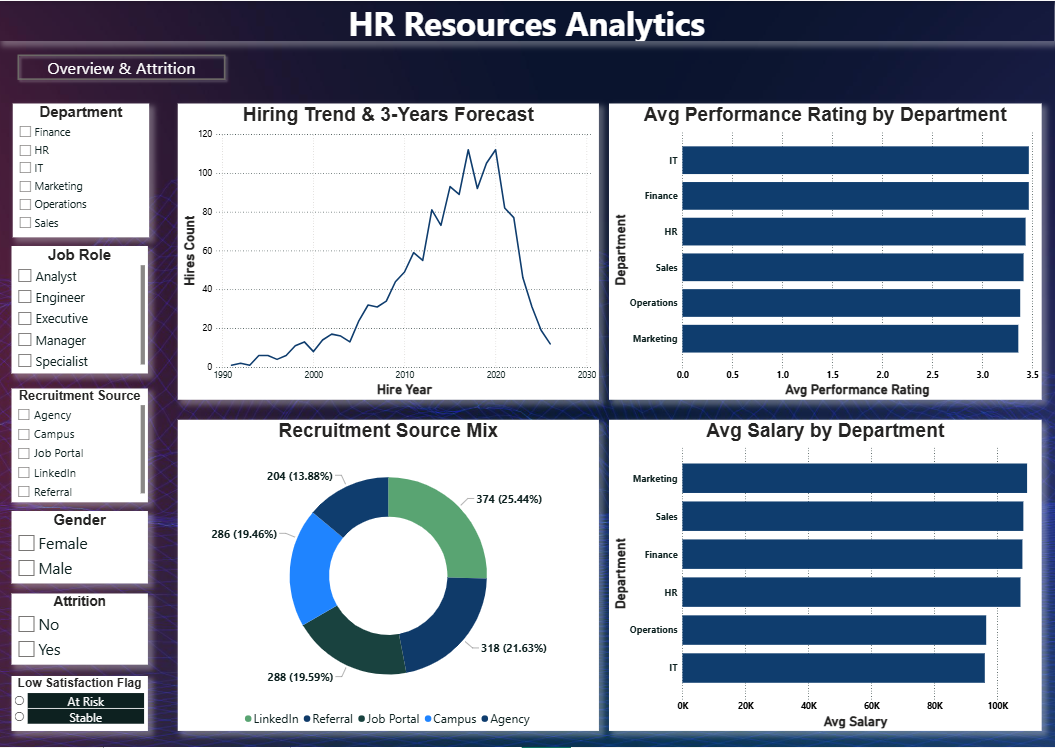

The page's visual inventory and layout, read from the dashboard file:
{"tool":"powerbi","page":{"name":"Recruitment & Forecasting","canvas":[1980,1400],"ordinal":1},"visuals":[{"type":"lineChart","title":"Hiring Trend & 3-Years Forecast","fields":{"Category":["HR Resource Analytics.Hire Year"],"Y":["HR Resource Analytics.Hires Count"]},"box":[335.5,192.4,790.6,556],"z":0},{"type":"listSlicer","fields":{"Values":["HR Resource Analytics.Low Satisfaction Flag"]},"box":[23.5,1266.8,255.7,103.2],"z":1000},{"type":"slicer","title":"Attrition","fields":{"Values":["HR Resource Analytics.Attrition"]},"box":[23.5,1111.9,255.7,133.7],"z":2000},{"type":"slicer","title":"Gender","fields":{"Values":["HR Resource Analytics.Gender"]},"box":[23.5,957.1,255.7,136.1],"z":3000},{"type":"slicer","title":"Recruitment Source","fields":{"Values":["HR Resource Analytics.RecruitmentSource"]},"box":[23.5,727.2,255.7,213.5],"z":4000},{"type":"slicer","title":"Job Role","fields":{"Values":["HR Resource Analytics.JobRole"]},"box":[23.5,459.8,255.7,239.3],"z":5000},{"type":"slicer","title":"Department","fields":{"Values":["HR Resource Analytics.Department"]},"box":[25.8,192.4,255.7,251],"z":6000},{"type":"donutChart","title":"Recruitment Source Mix","fields":{"Category":["HR Resource Analytics.RecruitmentSource"],"Y":["HR Resource Analytics.Employees by Source"]},"box":[335.5,785.9,790.6,584.1],"z":7000},{"type":"clusteredBarChart","fields":{"Category":["HR Resource Analytics.Department"],"Y":["HR Resource Analytics.Avg Performance Rating"]},"box":[1144.8,192.4,811.7,556],"z":8000},{"type":"clusteredBarChart","fields":{"Y":["HR Resource Analytics.Avg Salary"],"Category":["HR Resource Analytics.Department"]},"box":[1145,786,812,584],"z":9000},{"type":"shape","title":"HR Resources Analytics","box":[0,0,1979.9,75.1],"z":10000},{"type":"actionButton","box":[25.8,91.5,408.2,65.7],"z":11000}]}

Visuals, with their boxes in screenshot pixels (x1, y1, x2, y2), scaled from the page's 1980x1400 canvas onto the 1055x748 screenshot:
"Hiring Trend & 3-Years Forecast" lineChart: <box>179,103,600,400</box>
listSlicer - HR Resource Analytics.Low Satisfaction Flag: <box>13,677,149,732</box>
"Attrition" slicer: <box>13,594,149,666</box>
"Gender" slicer: <box>13,511,149,584</box>
"Recruitment Source" slicer: <box>13,389,149,503</box>
"Job Role" slicer: <box>13,246,149,374</box>
"Department" slicer: <box>14,103,150,237</box>
"Recruitment Source Mix" donutChart: <box>179,420,600,732</box>
clusteredBarChart - HR Resource Analytics.Department x HR Resource Analytics.Avg Performance Rating: <box>610,103,1042,400</box>
clusteredBarChart - HR Resource Analytics.Avg Salary x HR Resource Analytics.Department: <box>610,420,1043,732</box>
"HR Resources Analytics" shape: <box>0,0,1054,40</box>
actionButton: <box>14,49,231,84</box>
